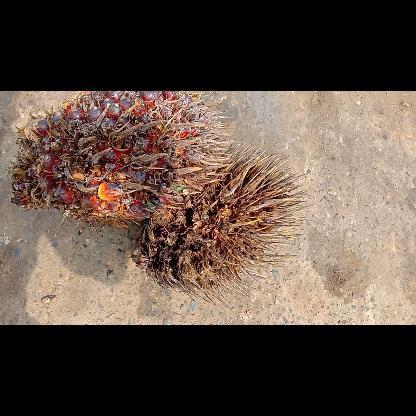Janjang kosong: (128, 144, 307, 304)
TBS masak: (6, 91, 233, 230)
